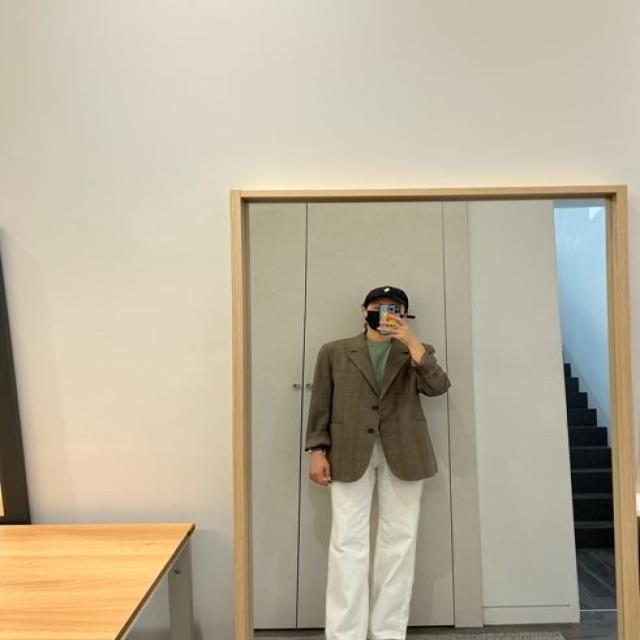blazer: (308, 333, 452, 480)
cottonpants: (324, 433, 422, 640)
